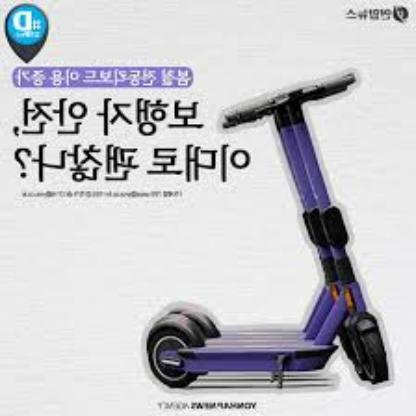bike: (141, 68, 390, 389)
